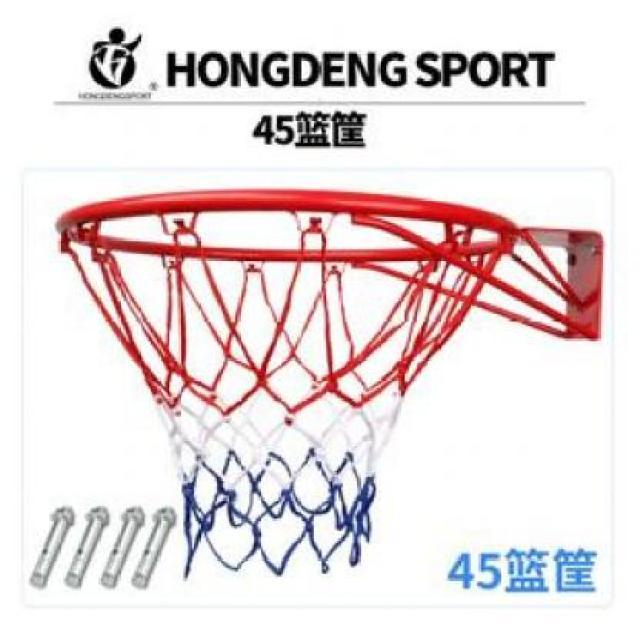rim: (58, 192, 514, 564)
